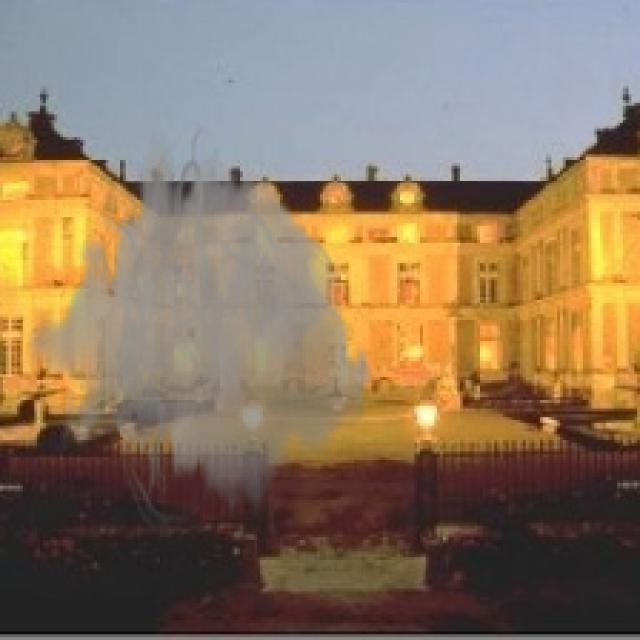smoke: (26, 120, 374, 543)
